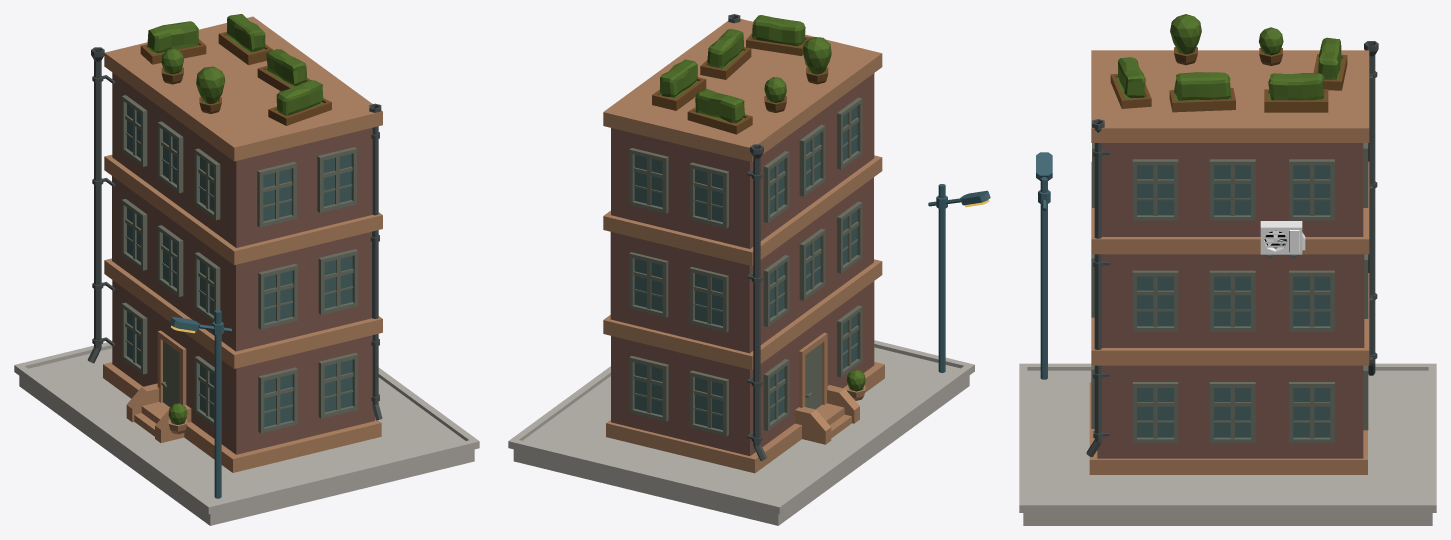
File: building_0.fbx
The picture shows the model from 3 angles, left to right: view 1: azimuth 30°, elevation 25°; view 2: azimuth 150°, elevation 25°; view 3: azimuth 270°, elevation 25°; orthographic projection. The views are drawn at different scales.
Parts seen in each view (by area): view 1: Plane102; view 2: Plane102; view 3: Plane102.
Boxes of the visible parts, bbox=[...] form: Plane102: bbox=[14, 14, 479, 525]; Plane102: bbox=[508, 14, 990, 525]; Plane102: bbox=[1019, 14, 1436, 525].
Bounding box in the file's own units: 897 × 1111 × 1020.
